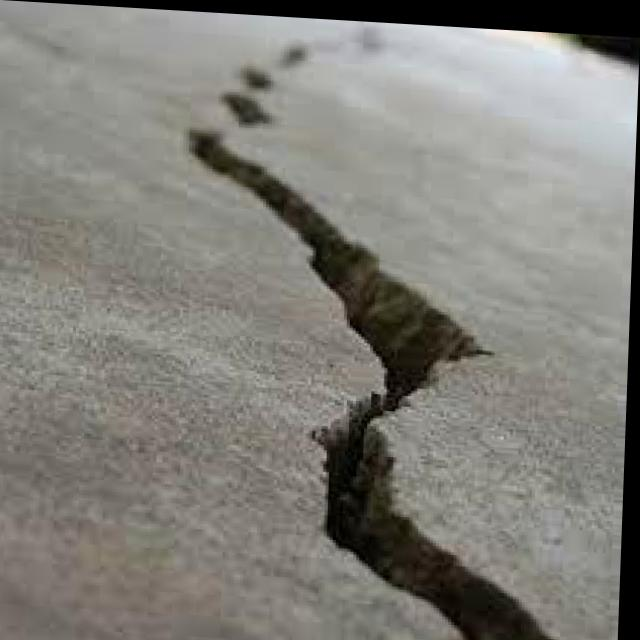Crack: (305, 189, 498, 602)
